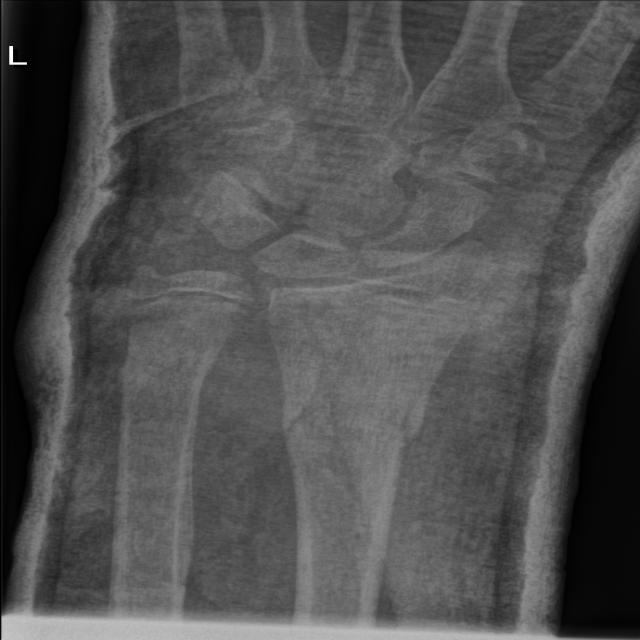radius fracture: (282, 366, 428, 469)
